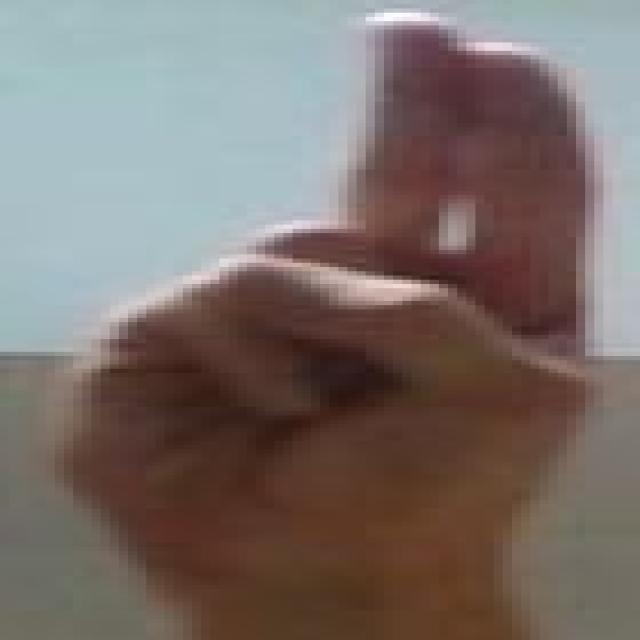U: (7, 5, 640, 640)
